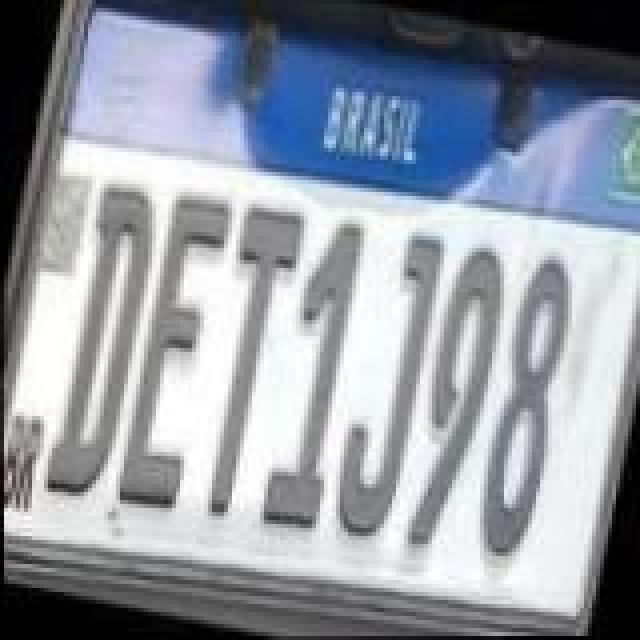1: (248, 210, 376, 538)
8: (458, 244, 586, 572)
9: (390, 234, 514, 554)
D: (38, 178, 166, 510)
E: (108, 188, 236, 520)
J: (320, 222, 448, 546)
T: (176, 196, 304, 524)
